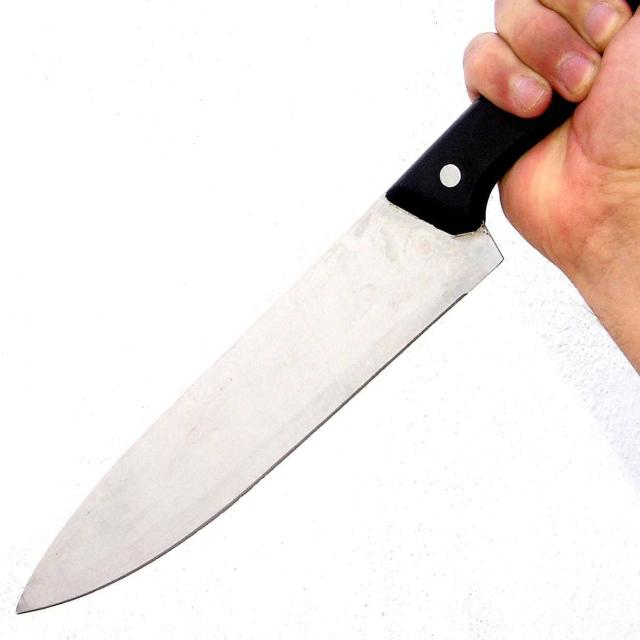Knife: (16, 6, 640, 626)
